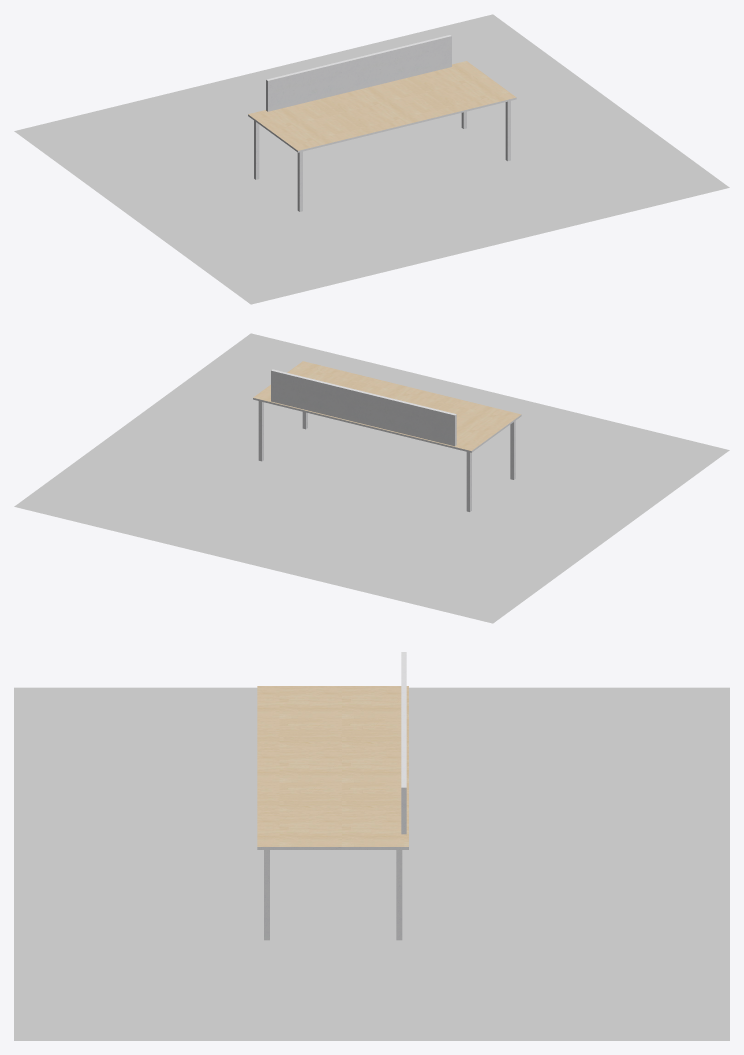
File: Office Desk SHC QuickOffice.fbx
3 renders of one model, top to bottom at view 1: azimuth 30°, elevation 25°; view 2: azimuth 150°, elevation 25°; view 3: azimuth 270°, elevation 25°, orthographic. The views are drawn at different scales.
Visible parts, largest first — view 1: Model, Component_85_1; view 2: Model, Component_85_1; view 3: Model, Component_85_1.
Boxes of the visible parts, x1=… form: Model: x1=14, y1=14, x2=729, y2=304; Component_85_1: x1=248, y1=35, x2=516, y2=211; Model: x1=14, y1=333, x2=729, y2=623; Component_85_1: x1=253, y1=361, x2=521, y2=511; Model: x1=14, y1=687, x2=729, y2=1040; Component_85_1: x1=257, y1=652, x2=408, y2=940.
Bounding box in the file's own units: 5.52 × 1.04 × 4.73.
